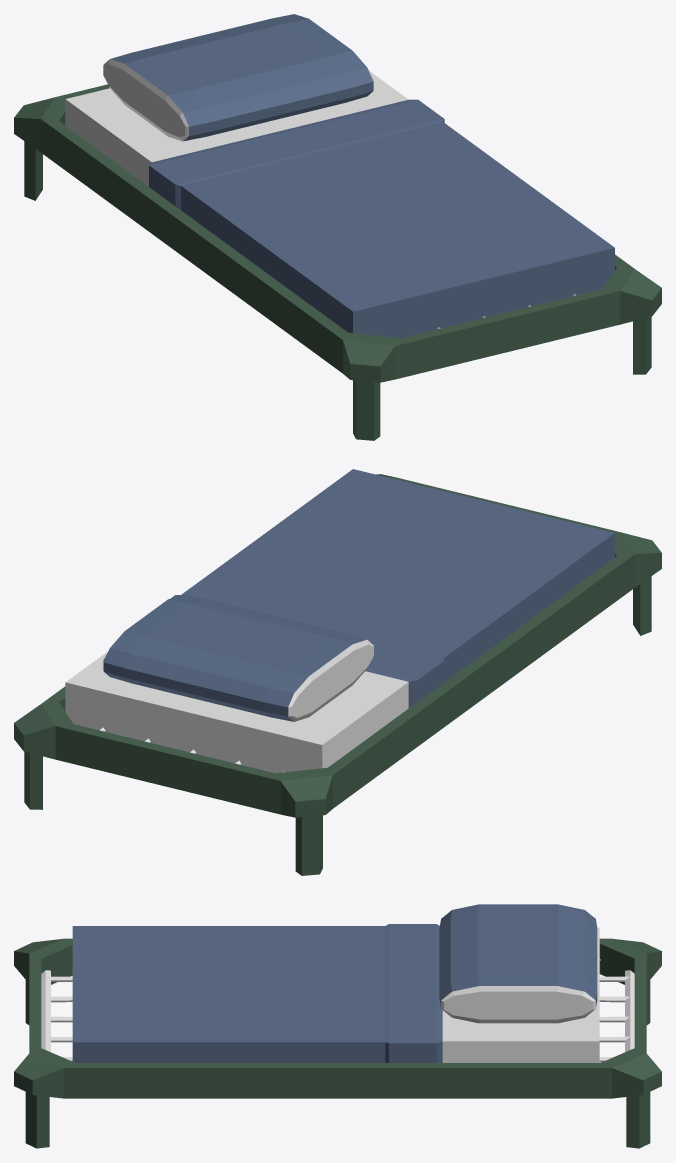
Rendered from Кровать (одинарная).fbx.
3 renders of one model, top to bottom at view 1: azimuth 30°, elevation 25°; view 2: azimuth 150°, elevation 25°; view 3: azimuth 270°, elevation 25°, orthographic. The views are drawn at different scales.
Parts seen in each view (by area): view 1: Cube, Plane, Cube.001; view 2: Cube, Plane, Cube.001; view 3: Cube, Plane, Cube.001, Plane.001.
Part boxes in pixels (bbox=[...]): Cube: bbox=[65, 71, 614, 338]; Plane: bbox=[14, 84, 661, 440]; Cube.001: bbox=[103, 14, 373, 141]; Cube: bbox=[65, 469, 614, 773]; Plane: bbox=[14, 474, 661, 875]; Cube.001: bbox=[103, 594, 373, 721]; Cube: bbox=[72, 924, 599, 1062]; Plane: bbox=[14, 938, 661, 1148]; Cube.001: bbox=[439, 904, 597, 1023]; Plane.001: bbox=[41, 959, 634, 1062].
Bounding box in the file's own units: 107 × 49.97 × 212.
